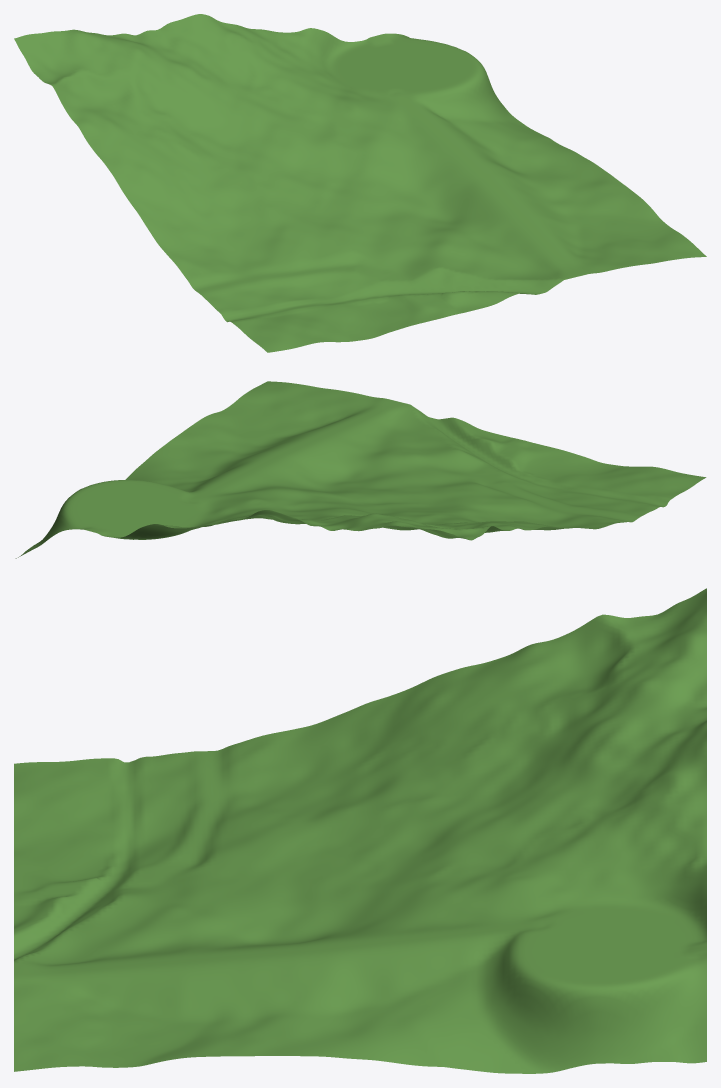
Rendered from SM_Terrain_06_03.fbx.
3 views of the same model, one above another, from view 1: azimuth 30°, elevation 25°; view 2: azimuth 150°, elevation 25°; view 3: azimuth 270°, elevation 25° (orthographic). The views are drawn at different scales.
Visible parts, largest first — view 1: SM_Terrain_06_03; view 2: SM_Terrain_06_03; view 3: SM_Terrain_06_03.
Part boxes in pixels (box(x1,y1,x2,y2)): SM_Terrain_06_03: box(14, 14, 706, 352); SM_Terrain_06_03: box(15, 381, 706, 558); SM_Terrain_06_03: box(14, 588, 706, 1073).
Size of the model in its own units: 384 by 118 by 384.
